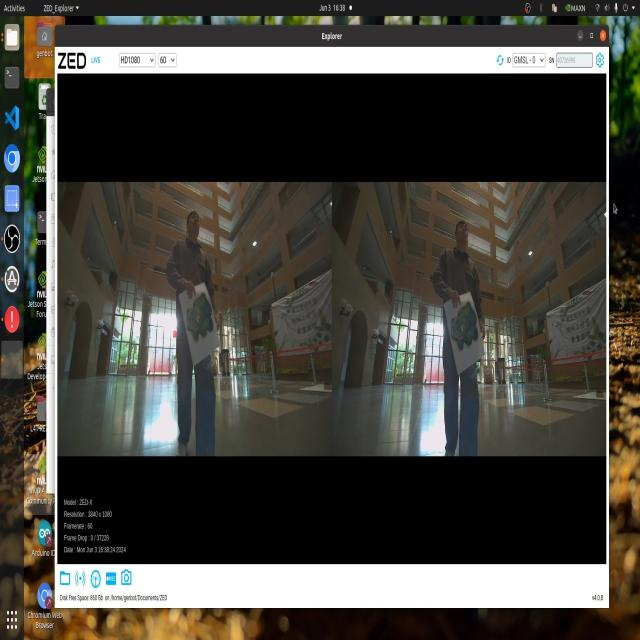green: (182, 281, 216, 348), (442, 294, 483, 347)
